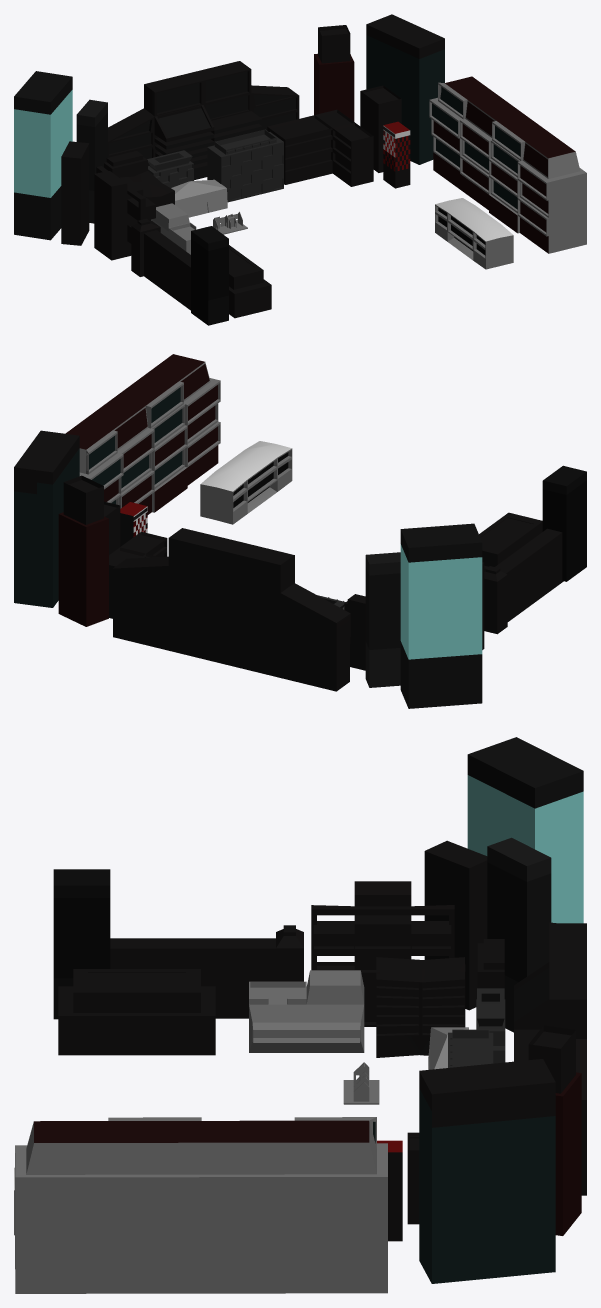
File: City.fbx
3 views of the same model, one above another, from view 1: azimuth 30°, elevation 25°; view 2: azimuth 150°, elevation 25°; view 3: azimuth 270°, elevation 25° (orthographic). The views are drawn at different scales.
Parts seen in each view (by area): view 1: Box102, Object014, Box156, Object001, Box115, Box158, Object038, Object031, Object021, Box094, Box116, Object037 (+29 smaller); view 2: Object001, Box158, Object014, Object031, Box156, Box102, Box155, Object037, Object021, Object013, Box153, Box101 (+17 smaller); view 3: Box102, Box156, Box151, Box158, Box125, Object037, Box116, Object009, Box153, Object015, Box150, Object031 (+25 smaller).
Boxes of the visible parts, box(x1,y1,x2,y2) form: Box102: box(429, 82, 586, 253); Object014: box(432, 87, 548, 253); Box156: box(366, 35, 444, 164); Object001: box(108, 69, 299, 180); Box115: box(267, 109, 373, 186); Box158: box(14, 90, 72, 197); Object038: box(109, 71, 295, 154); Object031: box(14, 71, 72, 240); Object021: box(108, 61, 298, 141); Box094: box(207, 129, 283, 202); Box116: box(94, 167, 155, 260); Object037: box(445, 76, 575, 158); Object001: box(113, 538, 350, 691); Box158: box(400, 544, 482, 659); Object014: box(89, 364, 218, 514); Object031: box(400, 523, 482, 708); Box156: box(14, 448, 79, 607); Box102: box(79, 362, 220, 512); Box155: box(58, 512, 108, 626); Object037: box(65, 354, 204, 449); Object021: box(113, 528, 350, 622); Object013: box(542, 480, 586, 581); Box153: box(506, 533, 563, 621); Box101: box(200, 448, 292, 524); Box102: box(15, 1117, 387, 1293); Box156: box(419, 1089, 555, 1283); Box151: box(58, 972, 215, 1055); Box158: box(467, 775, 583, 923); Box125: box(249, 971, 364, 1052); Object037: box(34, 1120, 369, 1142); Box116: box(311, 895, 454, 1026); Object009: box(487, 862, 551, 981); Box153: box(110, 948, 275, 1018); Object015: box(419, 1059, 555, 1111); Box150: box(424, 851, 487, 1010); Object031: box(467, 737, 583, 808).
Size of the model in its own units: 6671 by 2132 by 4852.
